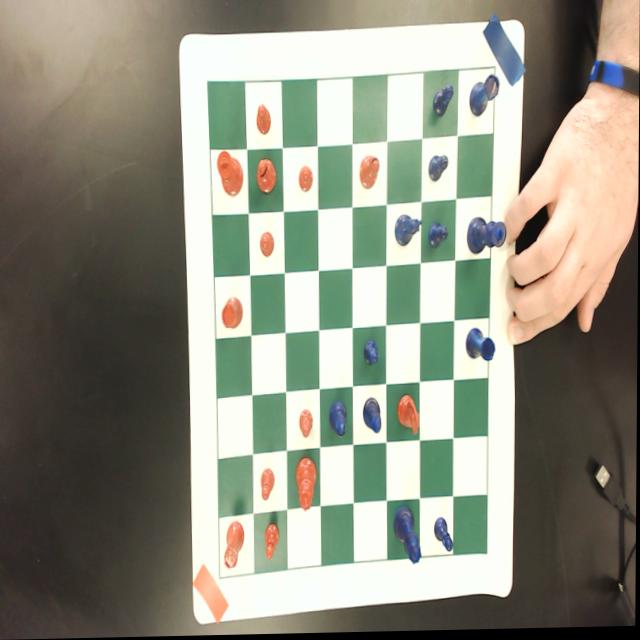B: (362, 399, 383, 435), (330, 402, 348, 438)
K: (466, 218, 507, 257)
N: (394, 215, 425, 250)
P: (432, 85, 454, 120), (434, 518, 454, 554), (428, 155, 450, 187), (429, 223, 449, 252), (362, 340, 380, 368)
Q: (395, 508, 423, 569)
R: (470, 76, 500, 120), (466, 329, 496, 365)
b: (256, 159, 277, 196), (359, 157, 380, 192)
k: (216, 151, 244, 198)
n: (397, 396, 422, 439)
p: (265, 523, 281, 563), (256, 103, 272, 138), (261, 470, 276, 504), (299, 410, 315, 440), (259, 233, 276, 259), (298, 168, 313, 194)
q: (295, 458, 318, 513)
r: (225, 521, 245, 572), (221, 296, 243, 332)
